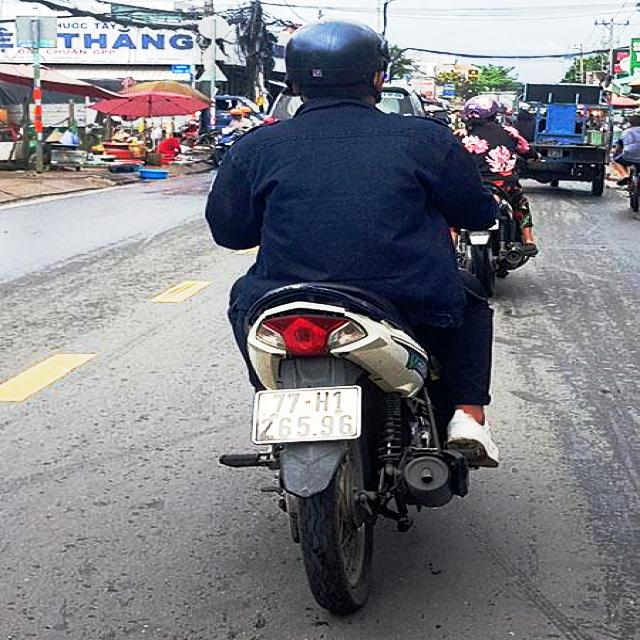license_plate: (257, 387, 361, 442)
